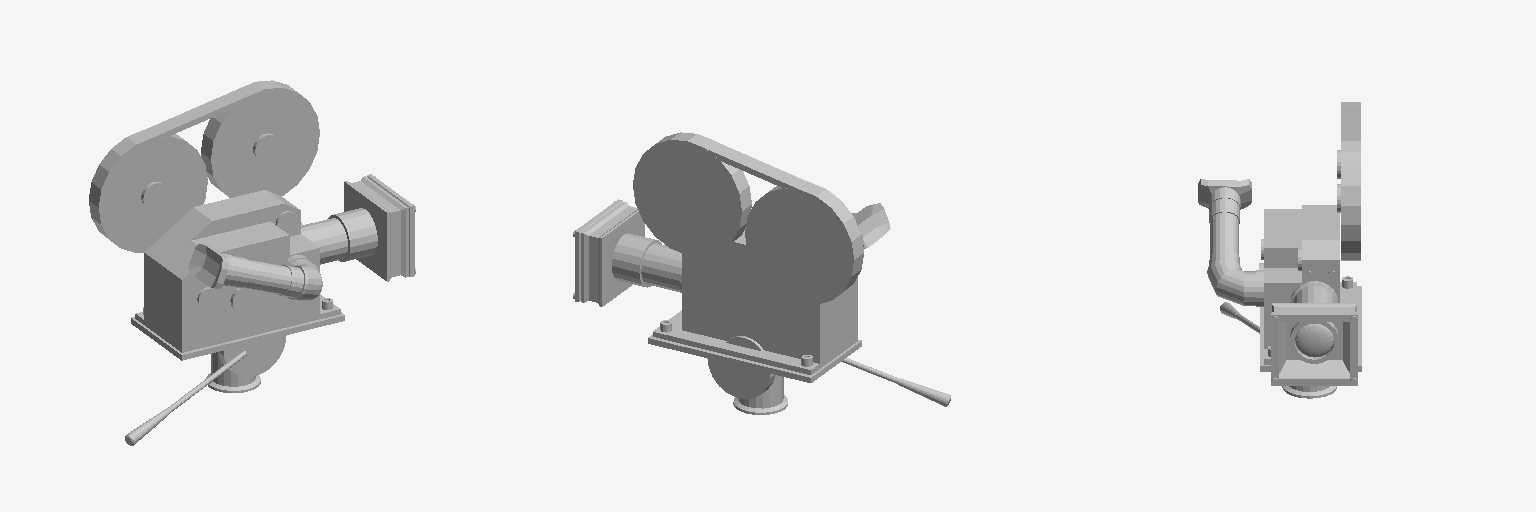
Rendered from filmCamera.obj.
3 views of the same model, side by side, from view 1: azimuth 30°, elevation 25°; view 2: azimuth 150°, elevation 25°; view 3: azimuth 270°, elevation 25° (orthographic).
Parts seen in each view (by area): view 1: camBody1, pCylinder15, pCylinder14, camBody2, lensHousing, dialFront1, lensBarrel, pCube6, pCylinder18, pCube5, pCube7, pCylinder22 (+5 smaller); view 2: camBody2, pCylinder14, pCylinder15, lensHousing, lensBarrel, plate1, pCube6, pCylinder19, pCube5, pCylinder21, camBody1, pCube7 (+1 smaller); view 3: lensHousing, dialFront1, camBody1, camBody2, pCylinder15, lens, pCube7, lensBarrel, lensRing, pCube6, pCube5, pCylinder21.
Boxes of the visible parts, x1,y1,x2,y2 form: camBody1: [163, 221, 319, 349]; pCylinder15: [201, 80, 319, 197]; pCylinder14: [89, 130, 207, 252]; camBody2: [144, 190, 300, 335]; lensHousing: [344, 174, 414, 281]; dialFront1: [222, 253, 322, 300]; lensBarrel: [301, 208, 377, 264]; pCube6: [131, 312, 344, 360]; pCylinder18: [218, 335, 286, 376]; pCube5: [144, 89, 247, 136]; pCube7: [188, 243, 228, 288]; pCylinder22: [125, 351, 246, 445]; camBody2: [682, 228, 838, 365]; pCylinder14: [745, 182, 863, 304]; pCylinder15: [633, 132, 751, 256]; lensHousing: [575, 199, 644, 306]; lensBarrel: [612, 233, 681, 292]; plate1: [653, 310, 857, 374]; pCube6: [648, 334, 861, 382]; pCylinder19: [707, 358, 774, 398]; pCube5: [705, 141, 808, 188]; pCylinder21: [733, 375, 787, 414]; camBody1: [839, 277, 857, 351]; pCube7: [854, 203, 890, 248]; lensHousing: [1271, 303, 1357, 385]; dialFront1: [1207, 187, 1263, 306]; camBody1: [1264, 209, 1301, 348]; camBody2: [1302, 205, 1339, 302]; pCylinder15: [1341, 135, 1360, 260]; lens: [1295, 324, 1333, 357]; pCube7: [1198, 179, 1251, 208]; lensBarrel: [1290, 281, 1338, 302]; lensRing: [1290, 322, 1338, 363]; pCube6: [1260, 286, 1361, 371]; pCube5: [1341, 107, 1360, 134]; pCylinder21: [1282, 386, 1336, 398].
Size of the model in its own units: 18.95 by 15.65 by 8.65.